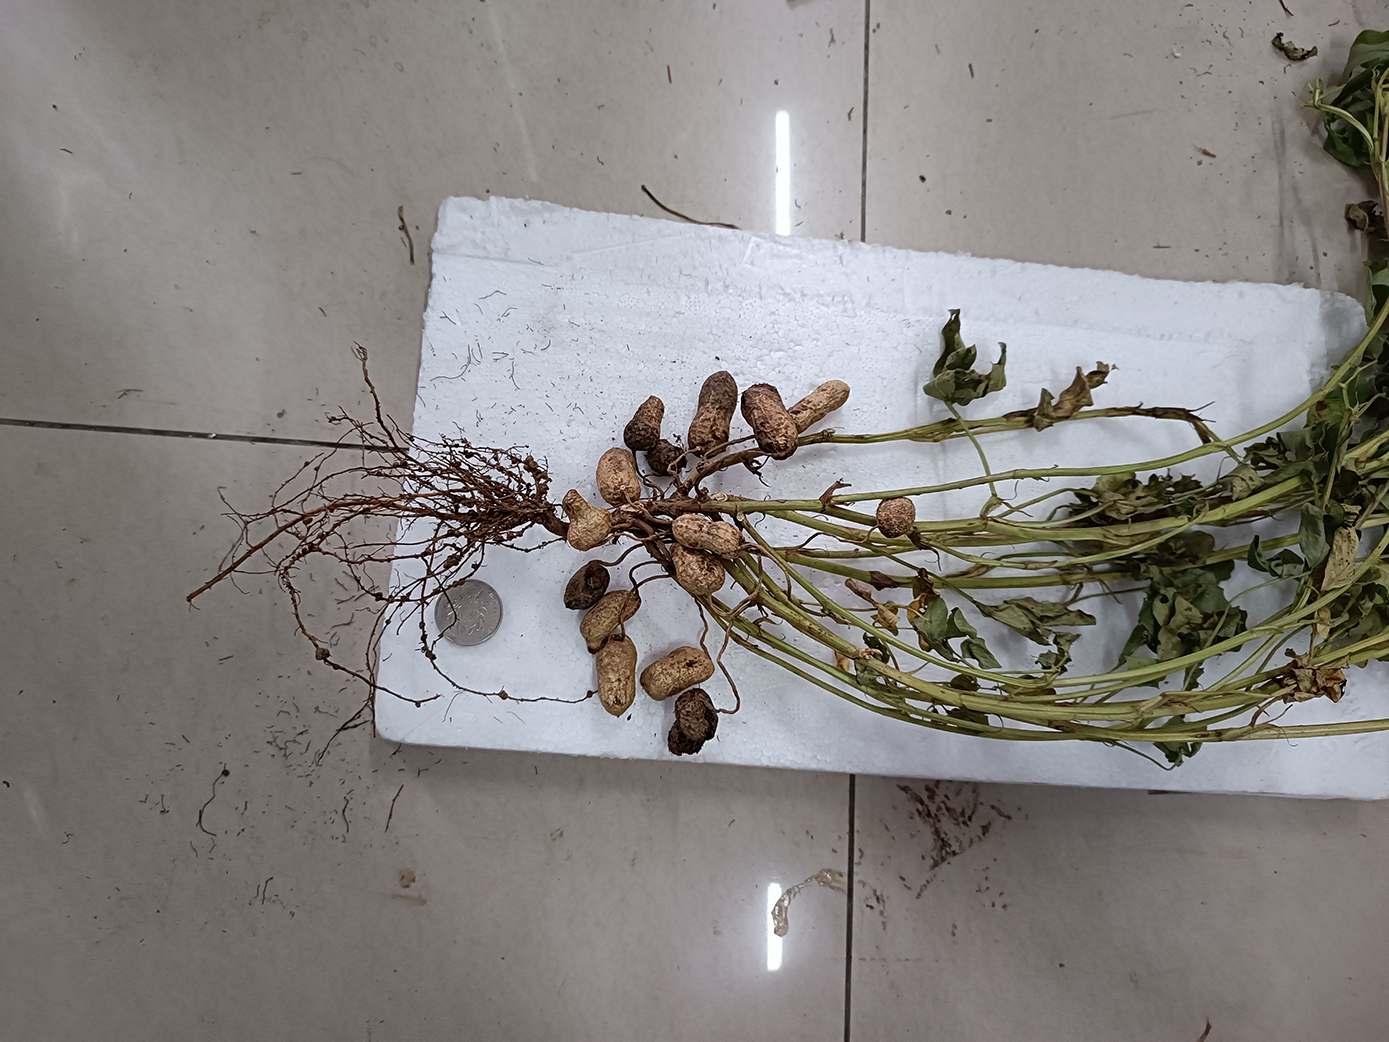h: (643, 646, 715, 702), (579, 589, 643, 650), (597, 633, 635, 720), (670, 510, 740, 557), (560, 488, 609, 549), (667, 546, 726, 595), (792, 380, 852, 426), (595, 447, 639, 506), (876, 497, 916, 539)
l: (687, 370, 738, 459), (743, 382, 795, 458), (668, 688, 720, 759), (566, 561, 609, 613), (625, 395, 663, 449), (648, 439, 684, 474)
